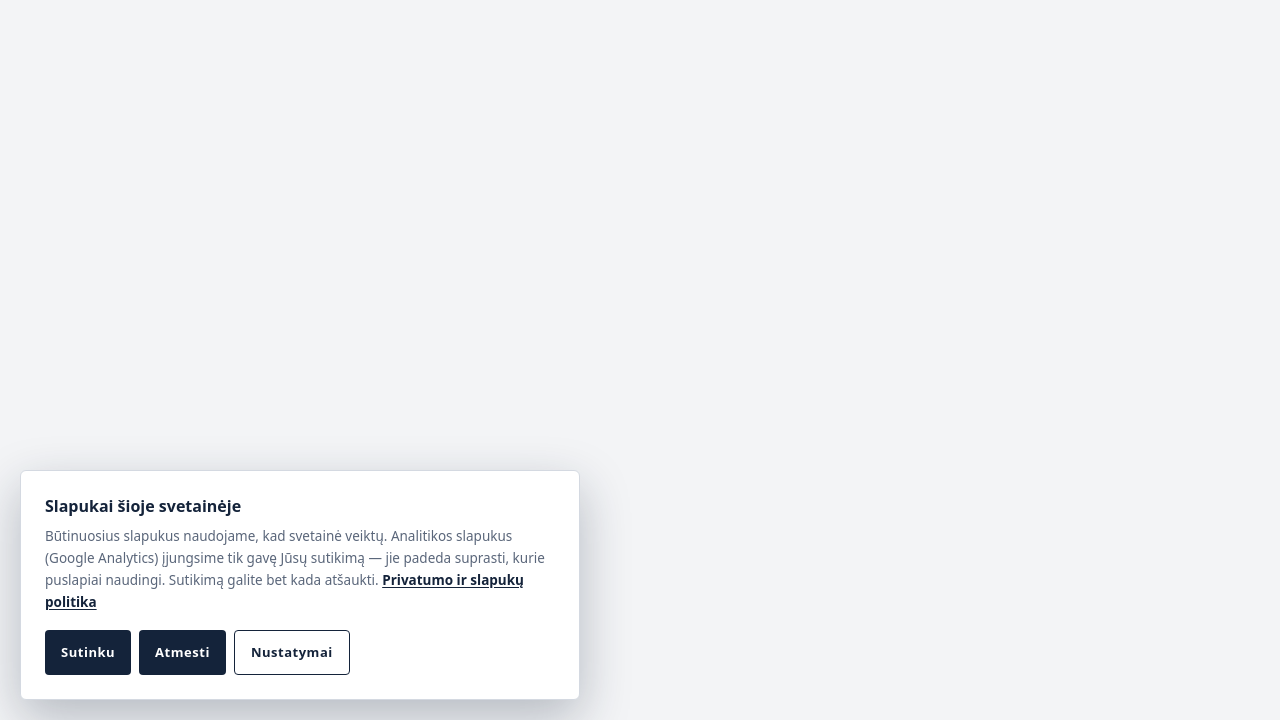
it: cookie consent › fresh visitors get analytics unticked in settings
Click the button "Nustatymai" at (292, 653), box [234,630,350,675]
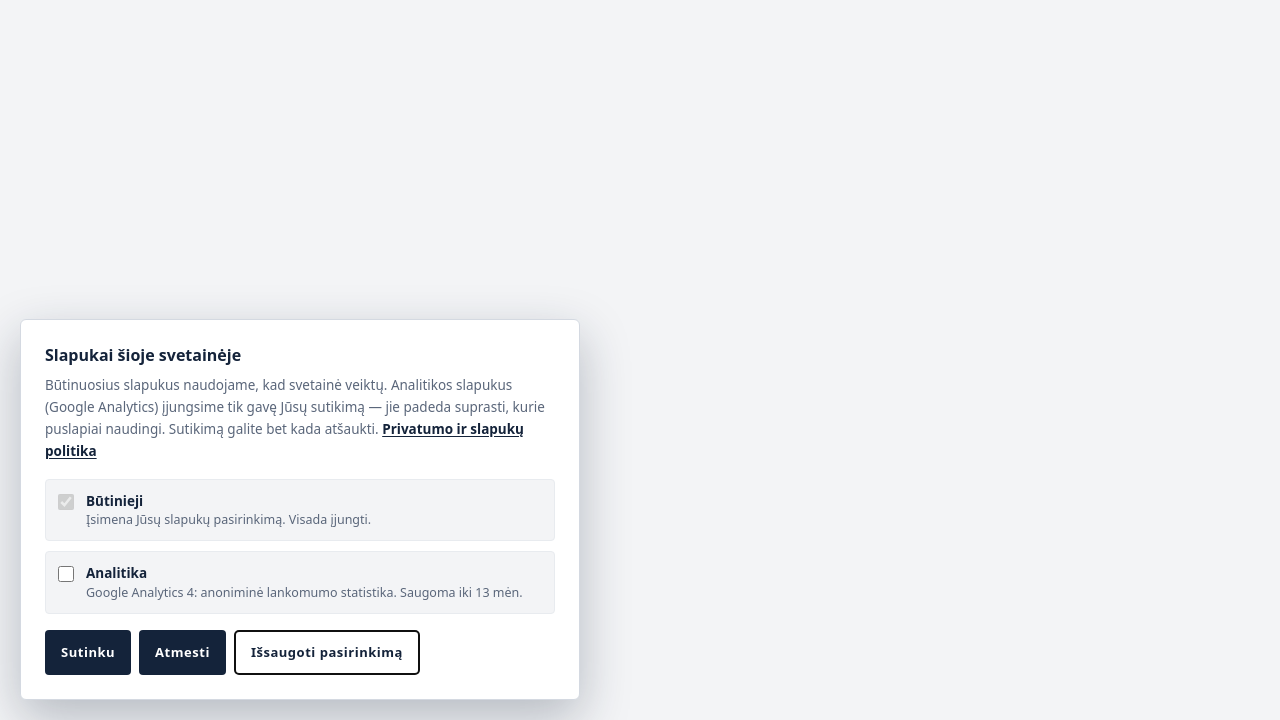
Expected: the checkbox labelled "Analitika" is not checked, [58,566,74,582]
